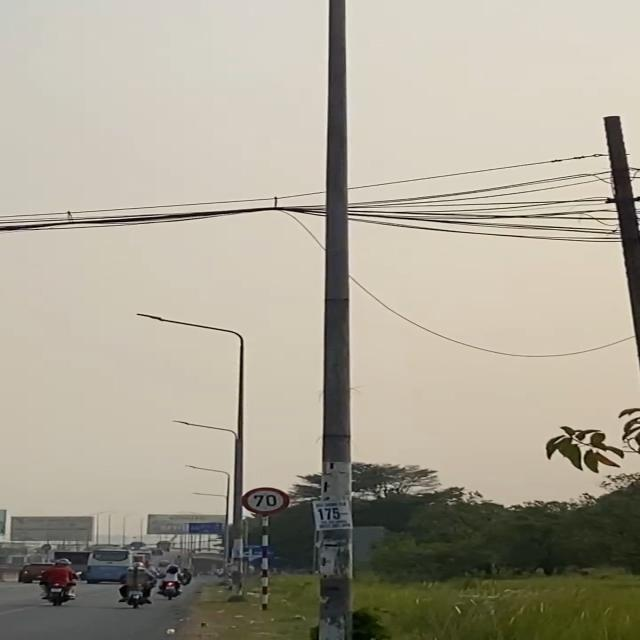127-toc-do-toi-da-70: (241, 485, 291, 515)
